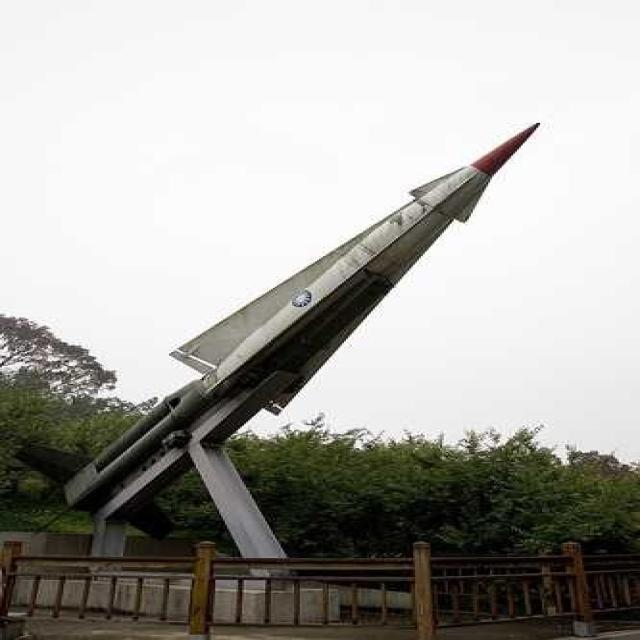missile: (55, 114, 550, 557)
